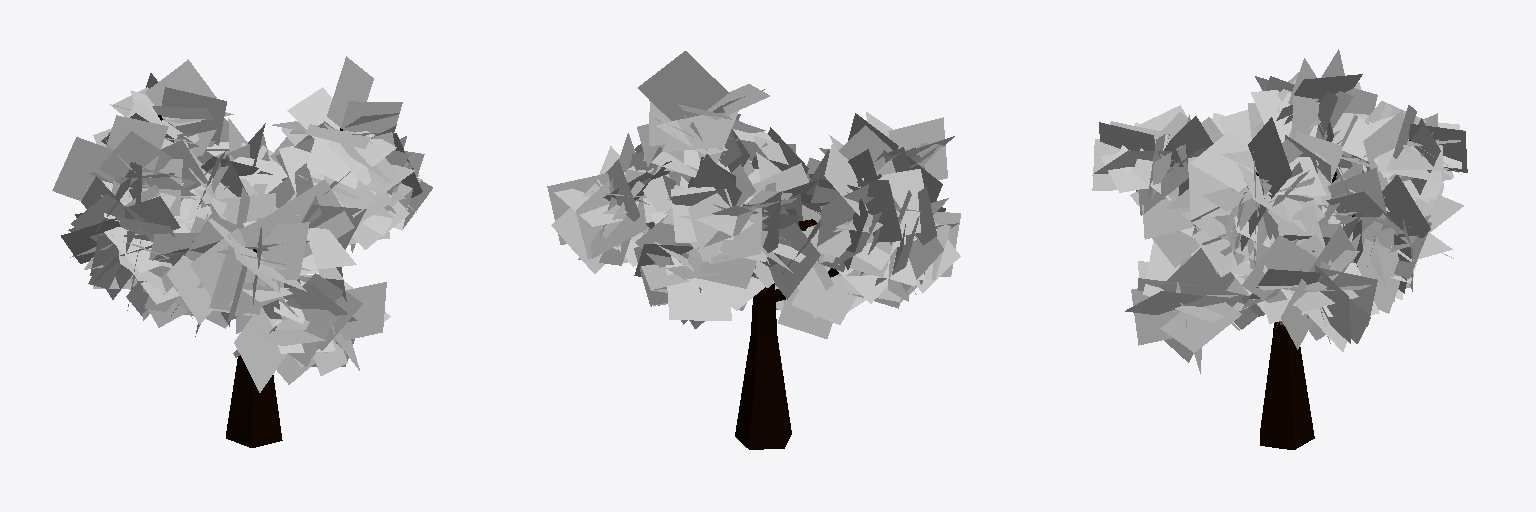
Rendered from Tree_Green_01.obj.
3 views of the same model, side by side, from view 1: azimuth 30°, elevation 25°; view 2: azimuth 150°, elevation 25°; view 3: azimuth 270°, elevation 25° (orthographic).
Parts seen in each view (by area): view 1: Tree_green01_Cube.007; view 2: Tree_green01_Cube.007; view 3: Tree_green01_Cube.007.
Part boxes in pixels (x1,y1,x2,y2): Tree_green01_Cube.007: (52, 56, 432, 447); Tree_green01_Cube.007: (547, 51, 960, 449); Tree_green01_Cube.007: (1092, 49, 1467, 449).
Bounding box in the file's own units: 14.11 × 13.16 × 12.32.